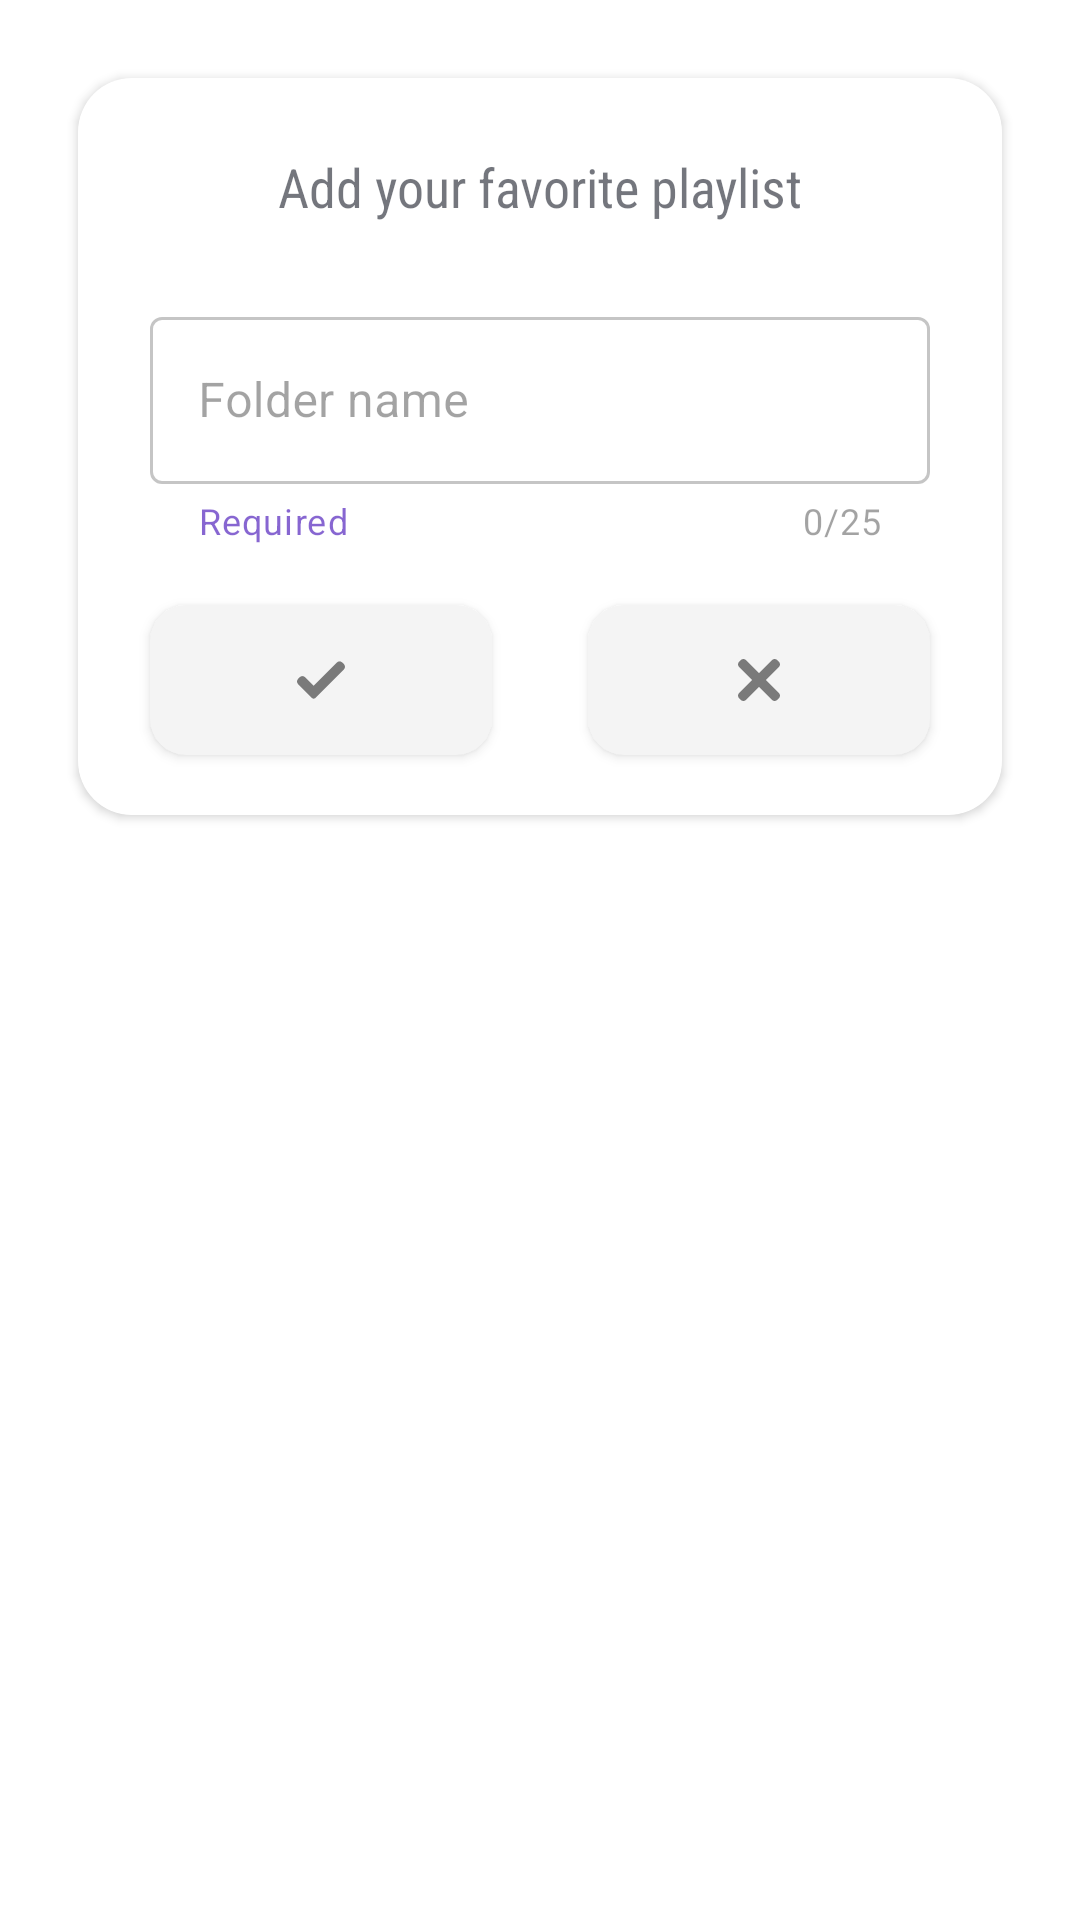

Screen size 1080*1920. Icon name, then its center in pixels as (x,y):
check: (321,680)
close: (759,680)
